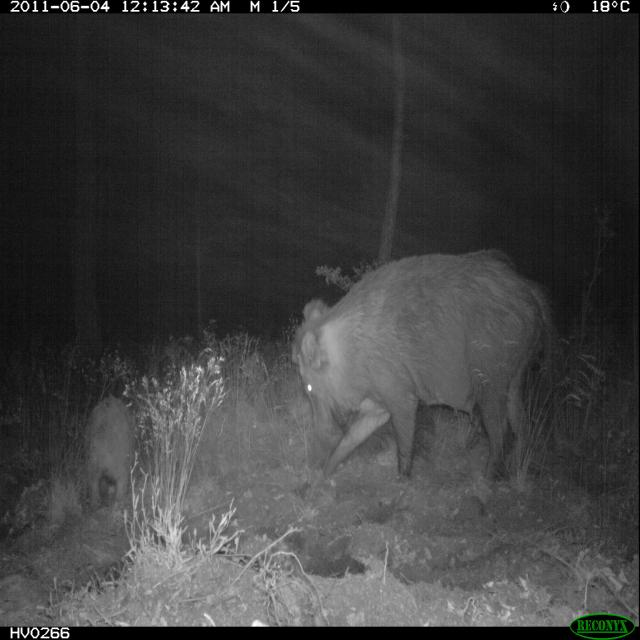boar: (247, 226, 605, 505), (76, 366, 143, 542)
